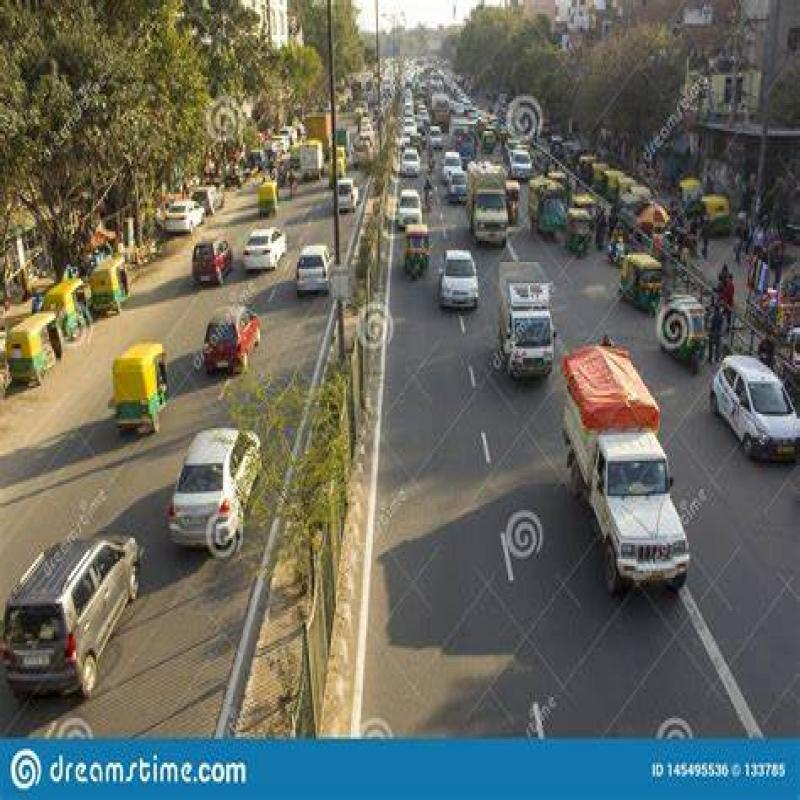car: (18, 492, 132, 721), (178, 400, 276, 564), (699, 350, 775, 476), (201, 298, 266, 382), (446, 247, 482, 352), (398, 173, 437, 262), (296, 242, 333, 315), (244, 220, 280, 277), (198, 231, 232, 278)
